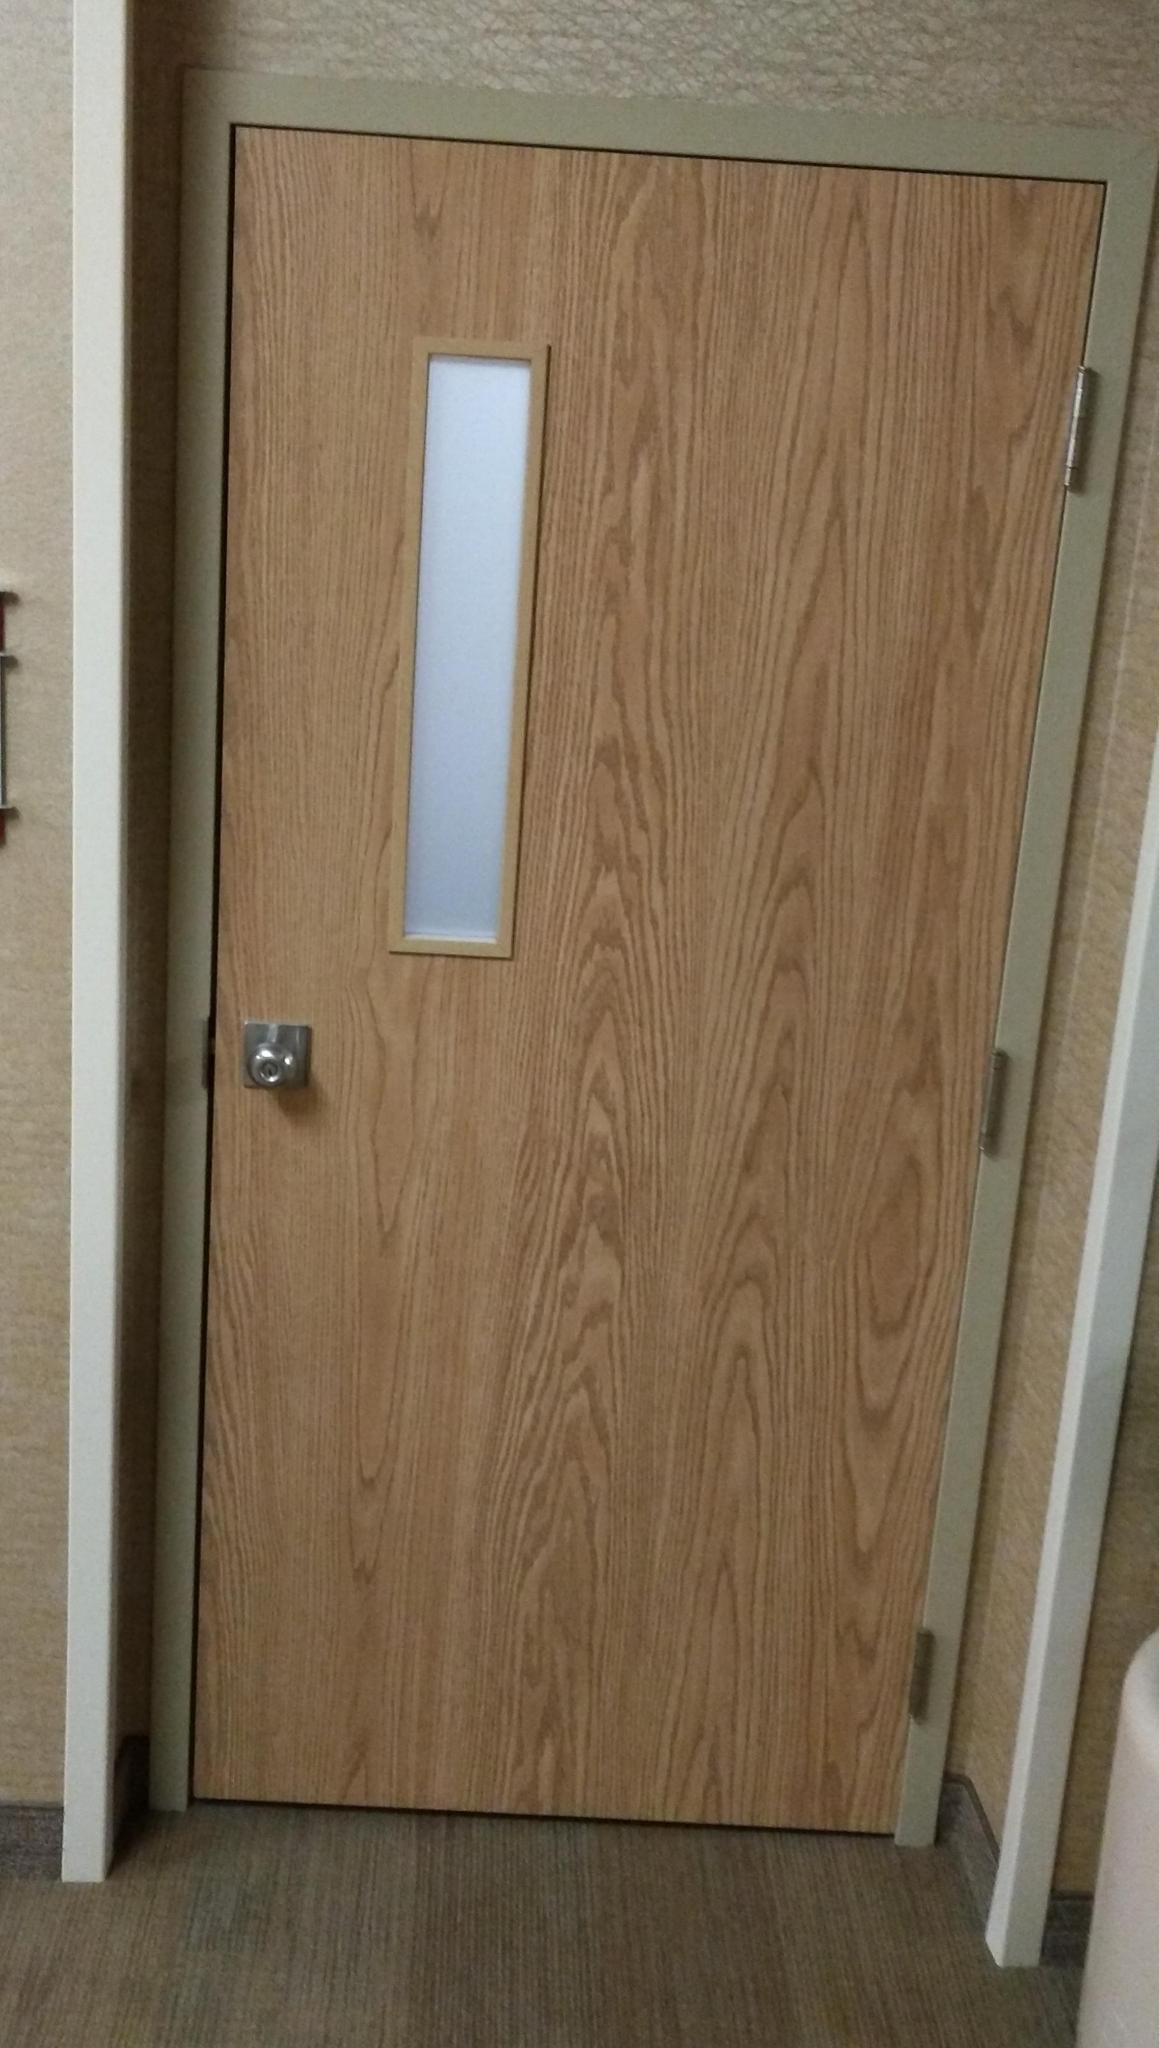door: (232, 162, 906, 1834)
handle: (238, 1018, 307, 1120)
